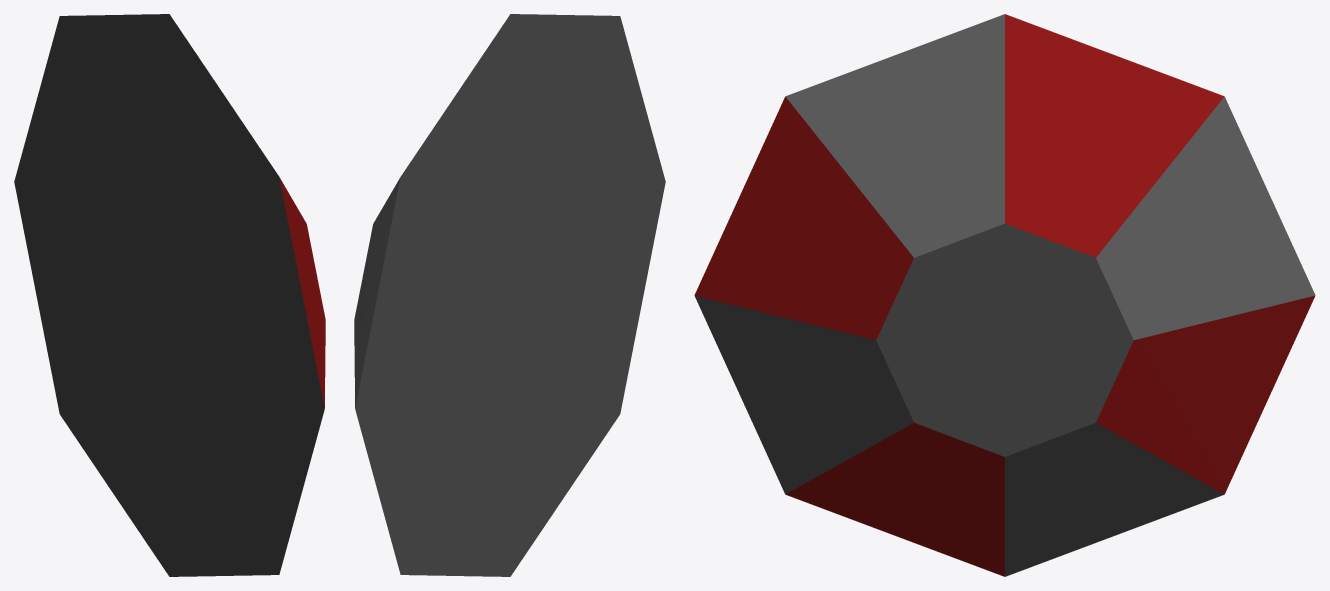
The model's file is thargoid.obj.
3 views of the same model, side by side, from view 1: azimuth 30°, elevation 25°; view 2: azimuth 150°, elevation 25°; view 3: azimuth 270°, elevation 25° (orthographic).
Bounding box in the file's own units: 56 × 328 × 328.
